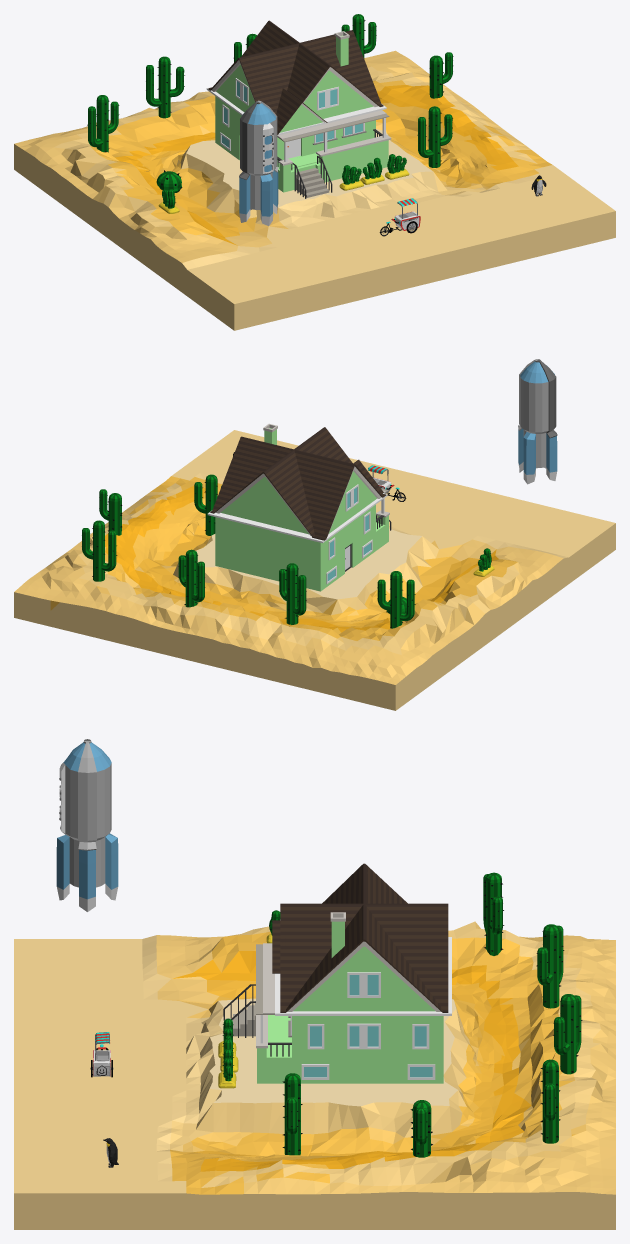
The picture shows the model from 3 angles, top to bottom: view 1: azimuth 30°, elevation 25°; view 2: azimuth 150°, elevation 25°; view 3: azimuth 270°, elevation 25°; orthographic projection. The views are drawn at different scales.
Parts seen in each view (by area): view 1: Cube.001, Cube.274, OBJRANDOM_ROCKETSHIP, Cylinder.044, Cylinder.037, Cylinder.045, Cylinder.038, Cylinder.042, VEHICLES_SNOWBAL_BIKE, Cylinder.041, Cylinder.039, Sphere.023; view 2: Cube.001, Cube.274, OBJRANDOM_ROCKETSHIP, Cylinder.045, Cylinder.042, Cylinder.044, Cylinder.043, Cylinder.037, Cylinder.038; view 3: Cube.001, Cube.274, OBJRANDOM_ROCKETSHIP, Cylinder.044, Cylinder.043, Cylinder.045, Cylinder.042, Cylinder.037, Cylinder.038, VEHICLES_SNOWBAL_BIKE.
Part boxes in pixels (x1=…): Cube.001: x1=14, y1=50, x2=615, y2=330; Cube.274: x1=206, y1=20, x2=391, y2=198; OBJRANDOM_ROCKETSHIP: x1=239, y1=100, x2=278, y2=225; Cylinder.044: x1=146, y1=56, x2=184, y2=118; Cylinder.037: x1=417, y1=106, x2=452, y2=167; Cylinder.045: x1=87, y1=95, x2=119, y2=152; Cylinder.038: x1=429, y1=52, x2=453, y2=98; Cylinder.042: x1=341, y1=14, x2=376, y2=58; VEHICLES_SNOWBAL_BIKE: x1=379, y1=198, x2=420, y2=236; Cylinder.041: x1=385, y1=154, x2=409, y2=179; Cylinder.039: x1=339, y1=165, x2=363, y2=190; Sphere.023: x1=156, y1=170, x2=182, y2=192; Cube.001: x1=14, y1=430, x2=615, y2=710; Cube.274: x1=207, y1=423, x2=391, y2=591; OBJRANDOM_ROCKETSHIP: x1=518, y1=359, x2=557, y2=484; Cylinder.045: x1=377, y1=571, x2=415, y2=628; Cylinder.042: x1=82, y1=520, x2=117, y2=581; Cylinder.044: x1=279, y1=563, x2=306, y2=624; Cylinder.043: x1=178, y1=549, x2=205, y2=607; Cylinder.037: x1=194, y1=474, x2=221, y2=535; Cylinder.038: x1=99, y1=489, x2=122, y2=535; Cube.001: x1=14, y1=921, x2=615, y2=1229; Cube.274: x1=223, y1=863, x2=451, y2=1083; OBJRANDOM_ROCKETSHIP: x1=56, y1=739, x2=118, y2=911; Cylinder.044: x1=536, y1=924, x2=564, y2=1008; Cylinder.043: x1=553, y1=994, x2=582, y2=1074; Cylinder.045: x1=483, y1=872, x2=504, y2=955; Cylinder.042: x1=540, y1=1059, x2=560, y2=1143; Cylinder.037: x1=282, y1=1073, x2=302, y2=1155; Cylinder.038: x1=410, y1=1100, x2=432, y2=1157; VEHICLES_SNOWBAL_BIKE: x1=90, y1=1032, x2=113, y2=1077.
Size of the model in its own units: 4002 by 2059 by 4001.
Materials: 33 (2 with a texture image).
